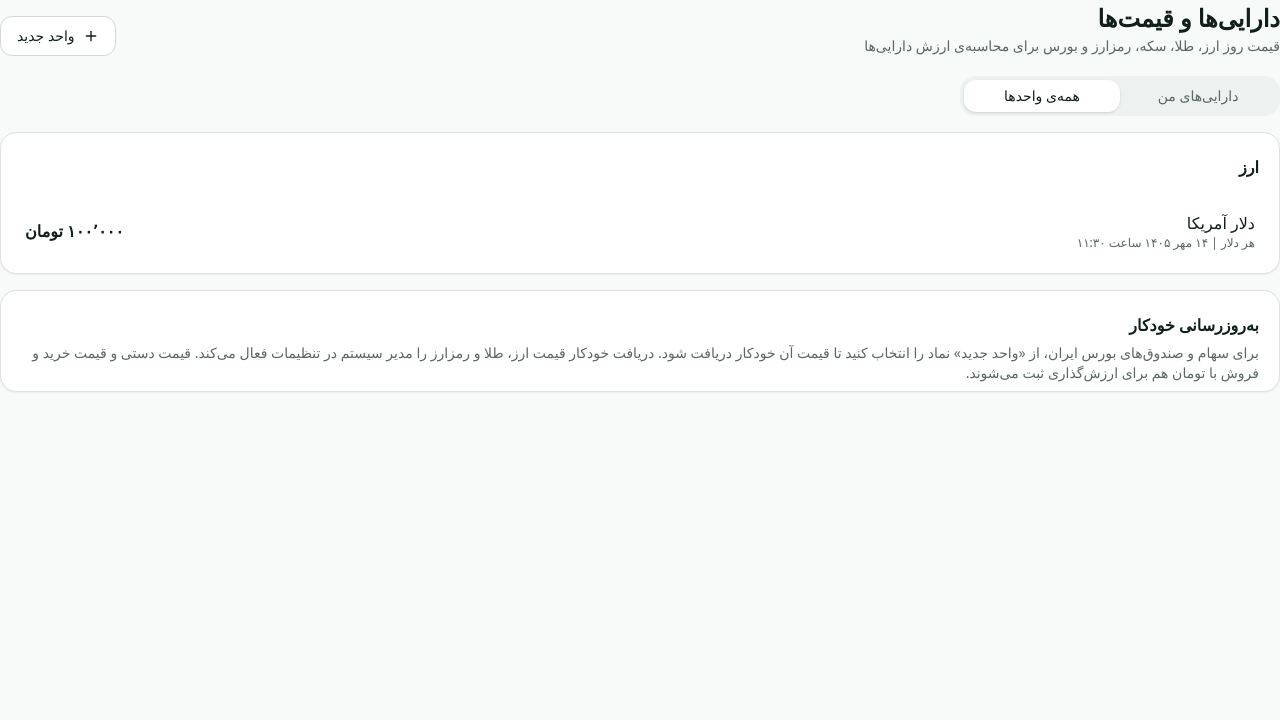
it: Iranian securities › shows a search error and leaves adding disabled until a symbol is chosen
Click the button "واحد جدید": (58, 36) [0, 16, 116, 56]
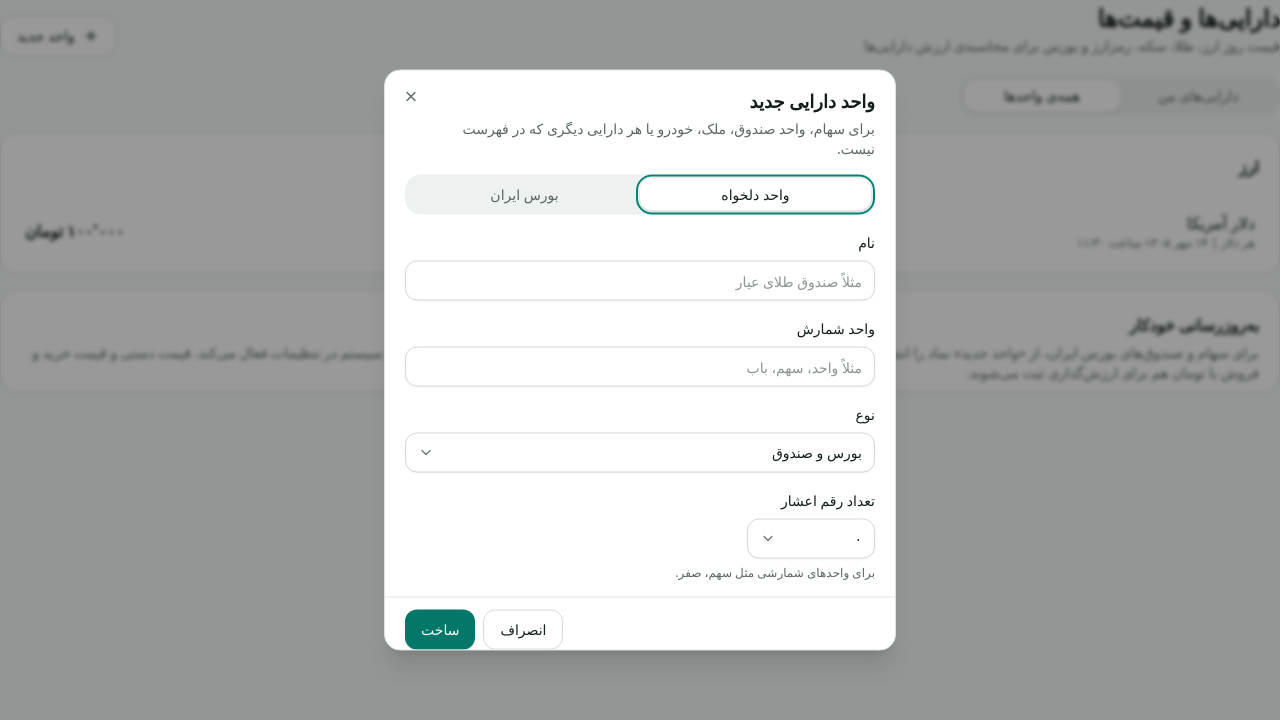
Click the radio button labelled "بورس ایران": (524, 194) [409, 178, 640, 210]
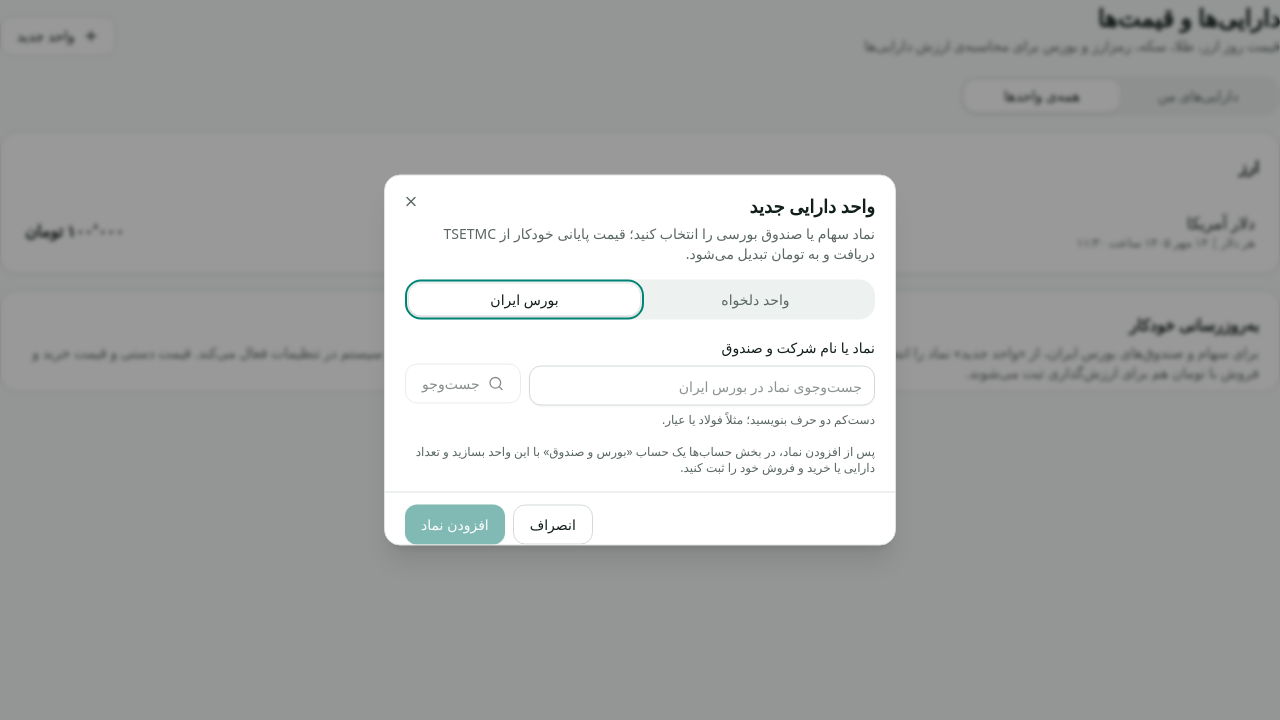
In the field labelled "نماد یا نام شرکت و صندوق": (702, 386) [528, 366, 875, 406], type "فولاد"
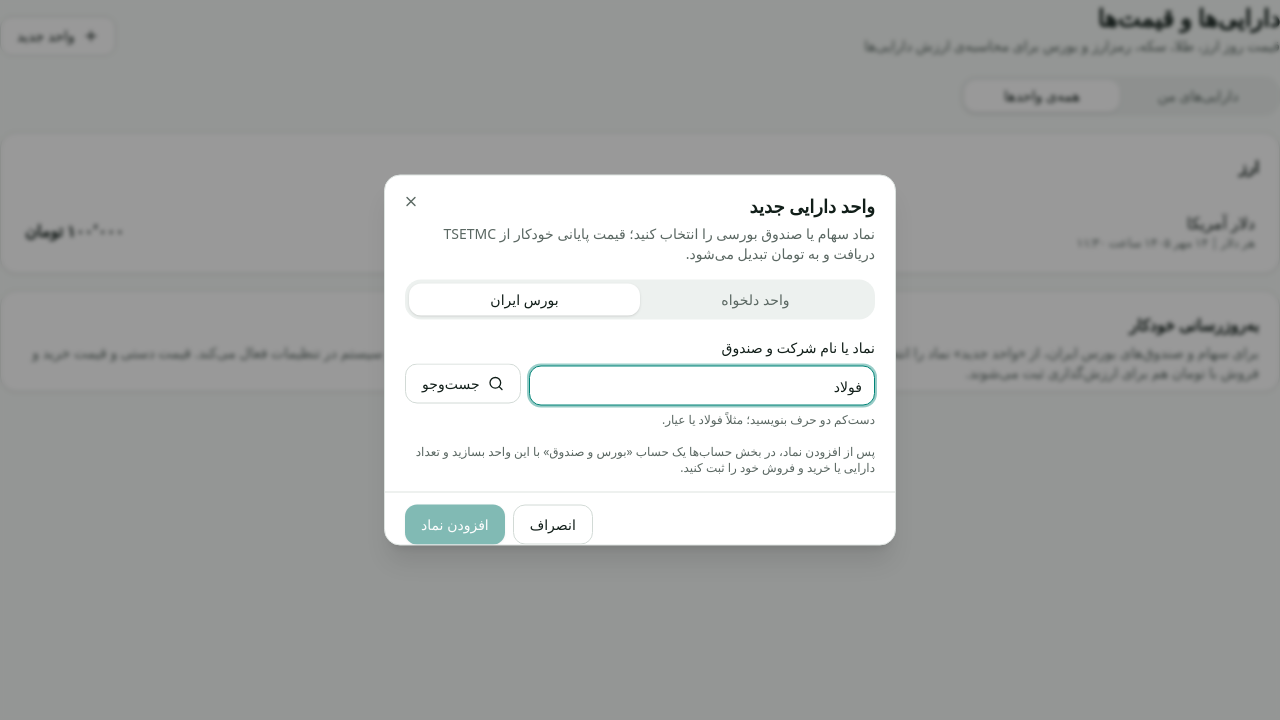
Click the button "جست‌وجو": (463, 384) [405, 364, 520, 404]
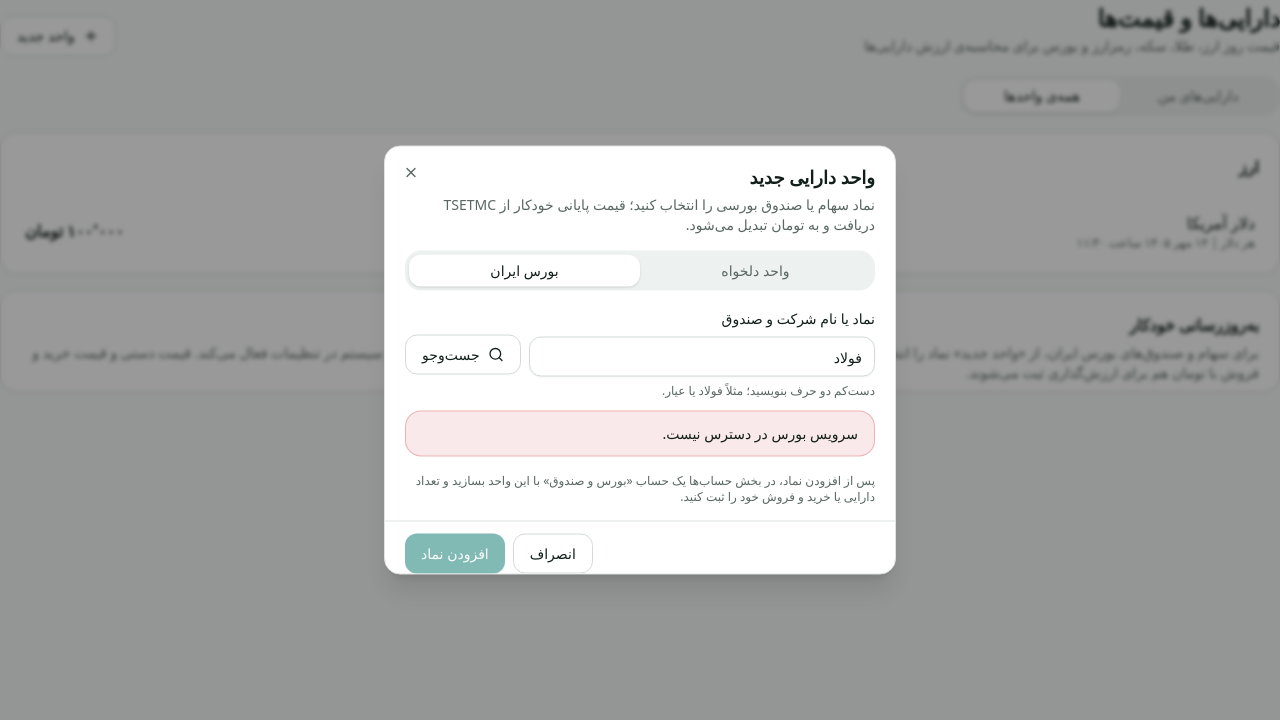
Check: the button "افزودن نماد" is disabled, box [405, 534, 505, 574]
Check: the text "سرویس بورس در دسترس نیست." is shown, box [405, 410, 875, 456]
